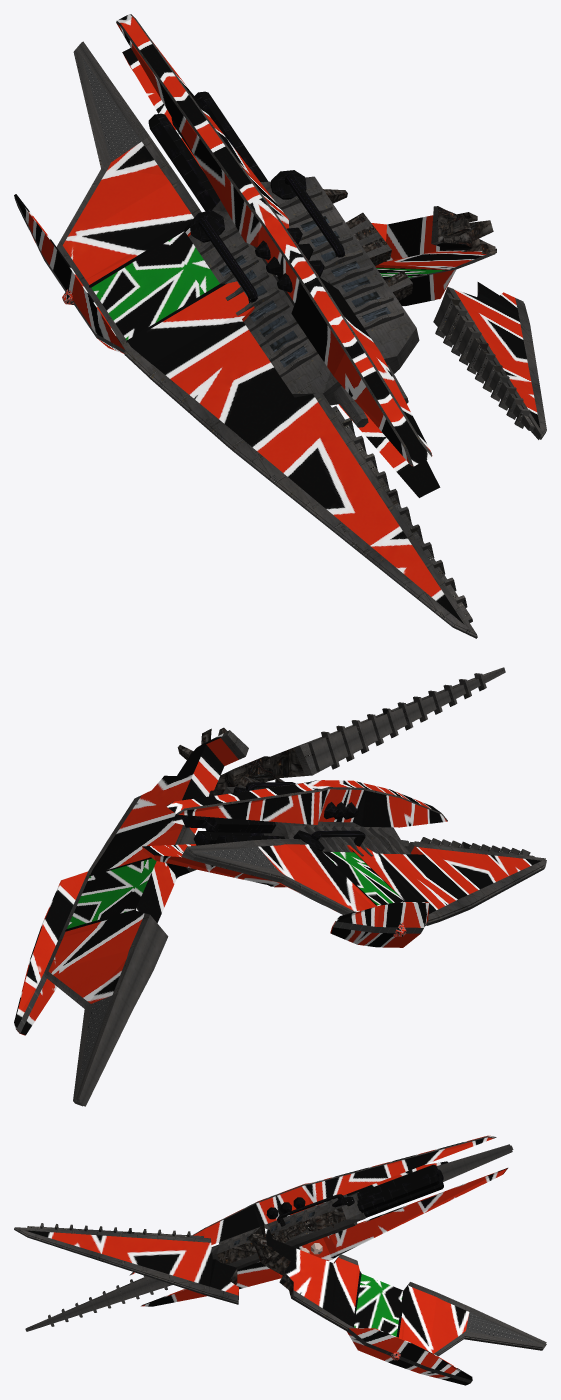
File: dead-bintak.glb
The picture shows the model from 3 angles, top to bottom: view 1: azimuth 30°, elevation 25°; view 2: azimuth 150°, elevation 25°; view 3: azimuth 270°, elevation 25°; orthographic projection. The views are drawn at different scales.
Parts seen in each view (by area): view 1: BinTak_Civ_low_poly.002; view 2: BinTak_Civ_low_poly.002; view 3: BinTak_Civ_low_poly.002.
Boxes of the visible parts, x1,y1,x2,y2 form: BinTak_Civ_low_poly.002: (14, 14, 546, 638); BinTak_Civ_low_poly.002: (14, 667, 546, 1106); BinTak_Civ_low_poly.002: (14, 1135, 546, 1385).
Size of the model in its own units: 204 by 171 by 403.
10 materials, 10 textured.
